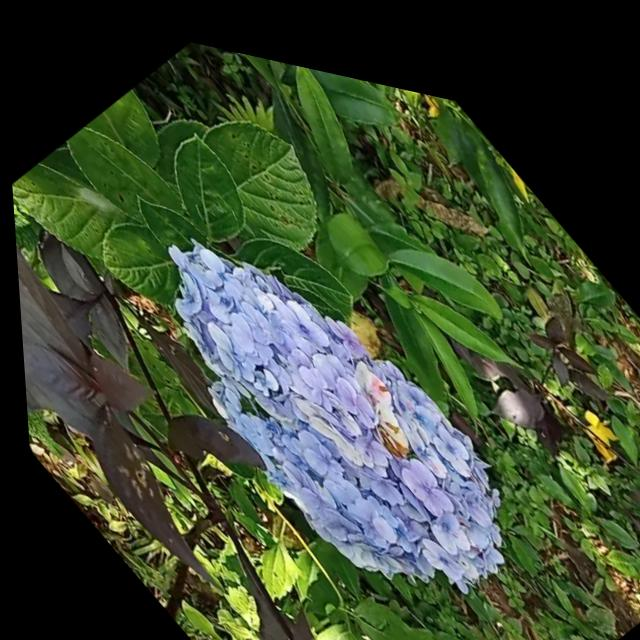Flower: (106, 154, 549, 640)
